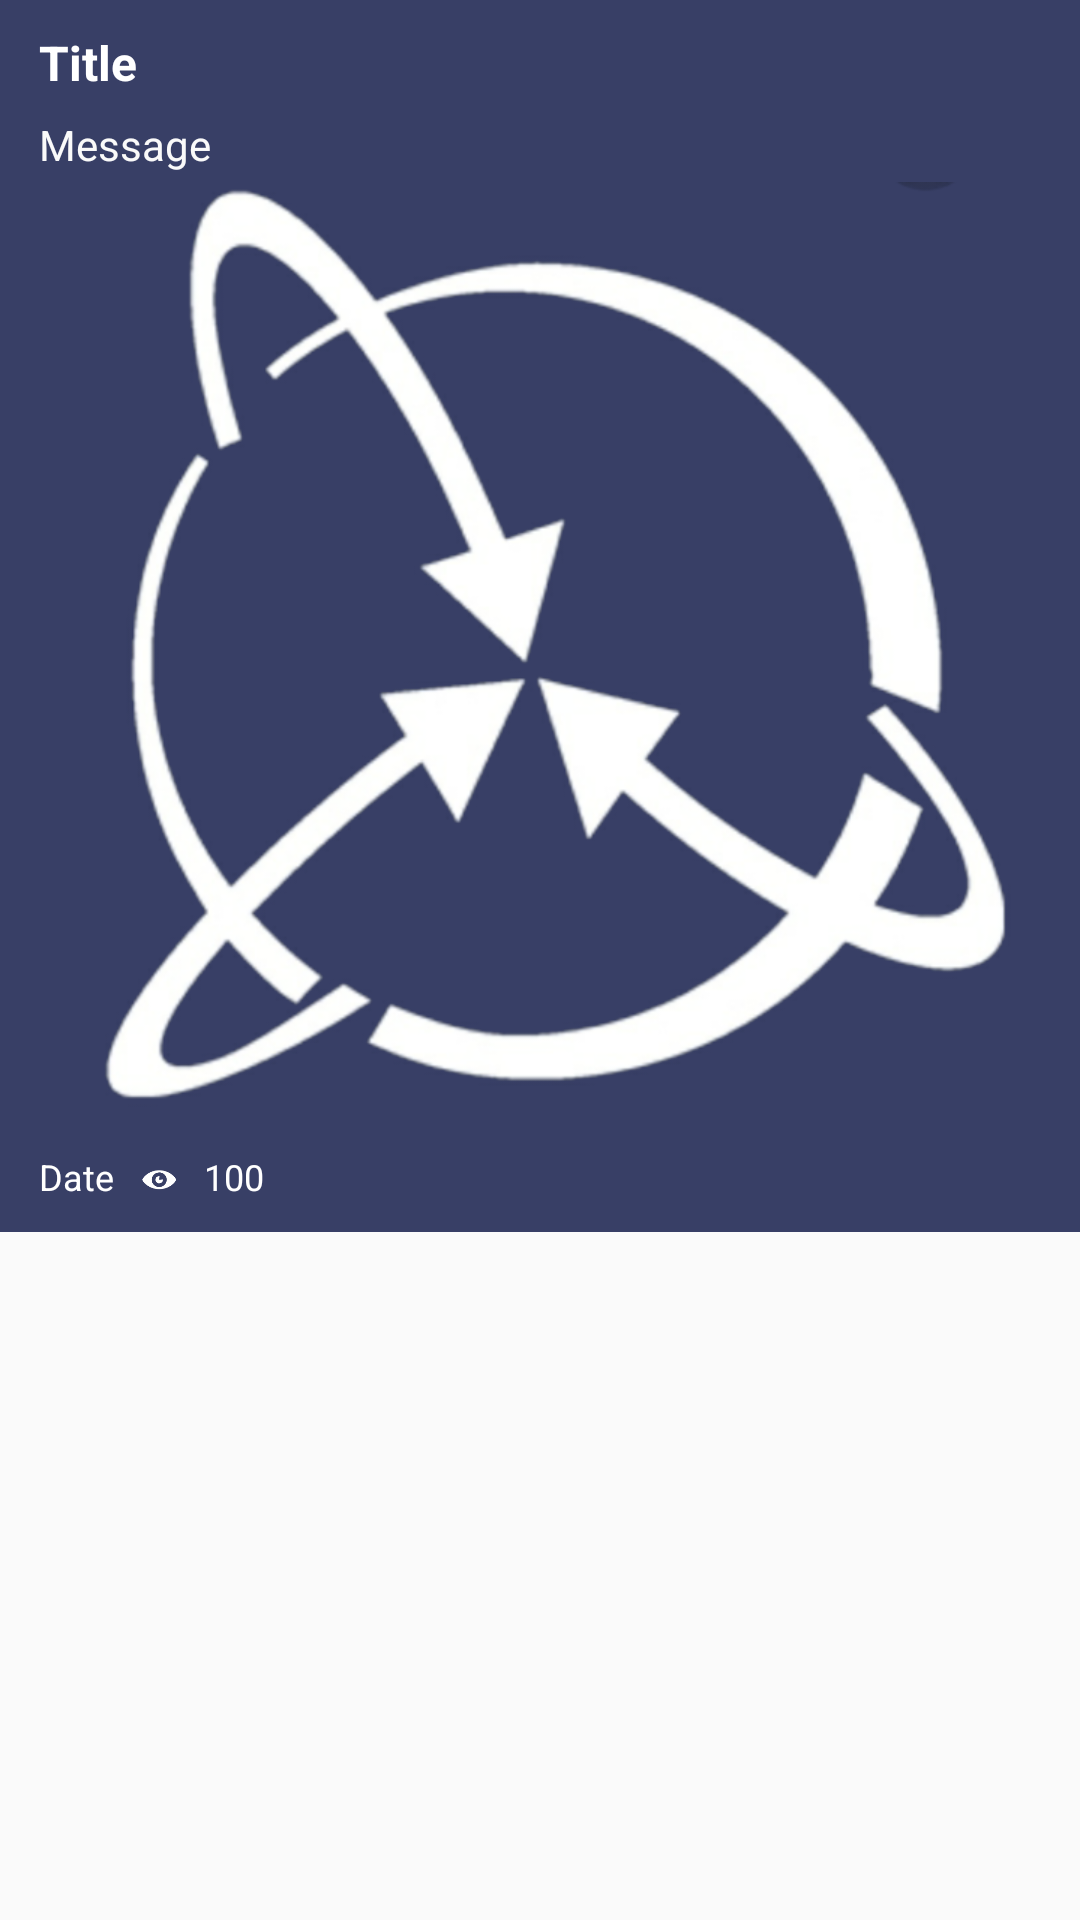

Icon bounding boxes for this 1080w x 1920h phone screenshot, format (x1,y1,x2,y2):
seen: (142,1170,176,1190)
